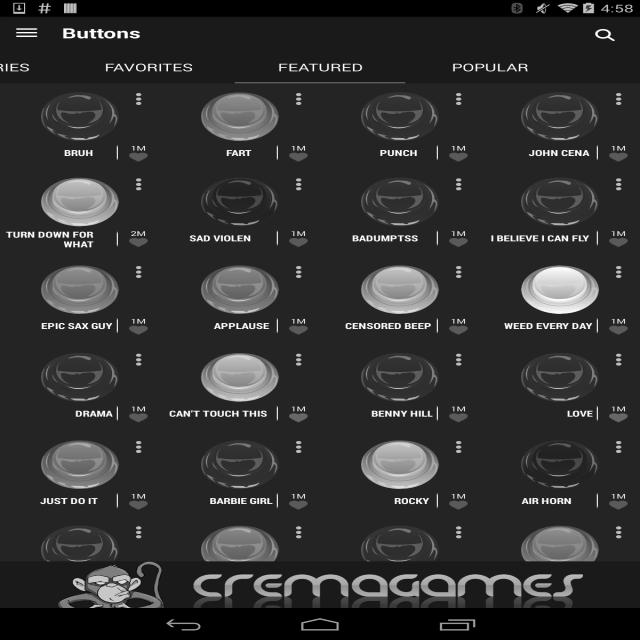ImageButton: (37, 175, 123, 229), (197, 175, 283, 229), (357, 175, 443, 229), (517, 175, 603, 229), (37, 523, 123, 577), (197, 523, 283, 577), (357, 523, 443, 577), (517, 523, 603, 577), (37, 90, 123, 143), (197, 90, 283, 143), (357, 90, 443, 143), (517, 90, 603, 143), (37, 263, 123, 316), (197, 263, 283, 316), (357, 263, 443, 316), (517, 263, 603, 316), (37, 351, 123, 404), (197, 351, 283, 404), (357, 351, 443, 404), (517, 351, 603, 404), (37, 438, 123, 491), (197, 438, 283, 491), (357, 438, 443, 491), (517, 438, 603, 491), (101, 132, 160, 169), (261, 132, 320, 169), (421, 132, 480, 169), (581, 132, 640, 169), (261, 217, 320, 254), (421, 217, 480, 254), (581, 217, 640, 254), (101, 305, 160, 342), (261, 305, 320, 342), (421, 305, 480, 342), (581, 305, 640, 342), (101, 480, 160, 517), (261, 480, 320, 517), (421, 480, 480, 517), (581, 480, 640, 517), (101, 220, 160, 256), (101, 393, 160, 429), (261, 393, 320, 429), (421, 393, 480, 429), (581, 393, 640, 429), (576, 24, 640, 44), (122, 90, 154, 120), (282, 90, 314, 120), (442, 90, 474, 120), (602, 90, 634, 120), (122, 176, 154, 206), (282, 176, 314, 206), (442, 176, 474, 206), (602, 176, 634, 206), (122, 263, 154, 293), (282, 263, 314, 293), (442, 263, 474, 293), (602, 263, 634, 293), (122, 350, 154, 380), (282, 350, 314, 380), (442, 350, 474, 380), (602, 350, 634, 380), (122, 438, 154, 468), (282, 438, 314, 468), (442, 438, 474, 468), (602, 438, 634, 468), (122, 524, 154, 554), (282, 524, 314, 554), (442, 524, 474, 554), (602, 524, 634, 554)
ImageView: (0, 561, 640, 608), (129, 413, 148, 423), (289, 413, 308, 423), (449, 413, 468, 423), (609, 413, 628, 423), (129, 153, 148, 162), (289, 153, 308, 162), (449, 153, 468, 162), (609, 153, 628, 162), (129, 238, 148, 247), (289, 238, 308, 247), (449, 238, 468, 247), (609, 238, 628, 247), (129, 326, 148, 335), (289, 326, 308, 335), (449, 326, 468, 335), (609, 326, 628, 335), (129, 501, 148, 510), (289, 501, 308, 510), (449, 501, 468, 510), (609, 501, 628, 510), (117, 144, 118, 160), (277, 144, 278, 160), (437, 144, 438, 160), (597, 144, 598, 160), (117, 231, 118, 247), (277, 230, 278, 246), (437, 230, 438, 246), (597, 230, 598, 246), (117, 317, 118, 333), (277, 317, 278, 333), (437, 317, 438, 333), (597, 317, 598, 333), (117, 406, 118, 422), (277, 406, 278, 422), (437, 406, 438, 422), (597, 406, 598, 422), (117, 492, 118, 508), (277, 492, 278, 508), (437, 492, 438, 508), (597, 492, 598, 508)
TextView: (2, 228, 93, 250), (62, 24, 141, 44), (104, 60, 194, 74), (277, 60, 363, 74), (490, 232, 589, 244), (452, 60, 529, 74), (168, 408, 266, 419), (503, 320, 592, 331), (345, 320, 432, 331), (352, 232, 418, 244), (41, 320, 113, 331), (190, 232, 252, 244), (370, 408, 432, 419), (210, 495, 272, 506), (528, 147, 589, 158), (40, 495, 98, 506), (213, 320, 270, 331), (522, 495, 572, 506), (0, 59, 29, 74), (380, 147, 418, 158), (74, 408, 112, 419), (394, 495, 429, 506), (64, 147, 93, 158), (566, 408, 592, 419), (226, 147, 251, 158), (131, 143, 146, 153), (291, 143, 306, 153), (451, 143, 466, 153), (611, 143, 626, 153), (131, 316, 146, 326), (291, 316, 306, 326), (451, 316, 466, 326), (611, 316, 626, 326), (131, 491, 146, 501), (291, 491, 306, 501), (451, 491, 466, 501), (611, 491, 626, 501), (131, 229, 146, 238), (291, 229, 306, 238), (451, 229, 466, 238), (611, 229, 626, 238), (131, 404, 146, 413), (291, 404, 306, 413), (451, 404, 466, 413), (611, 404, 626, 413)
